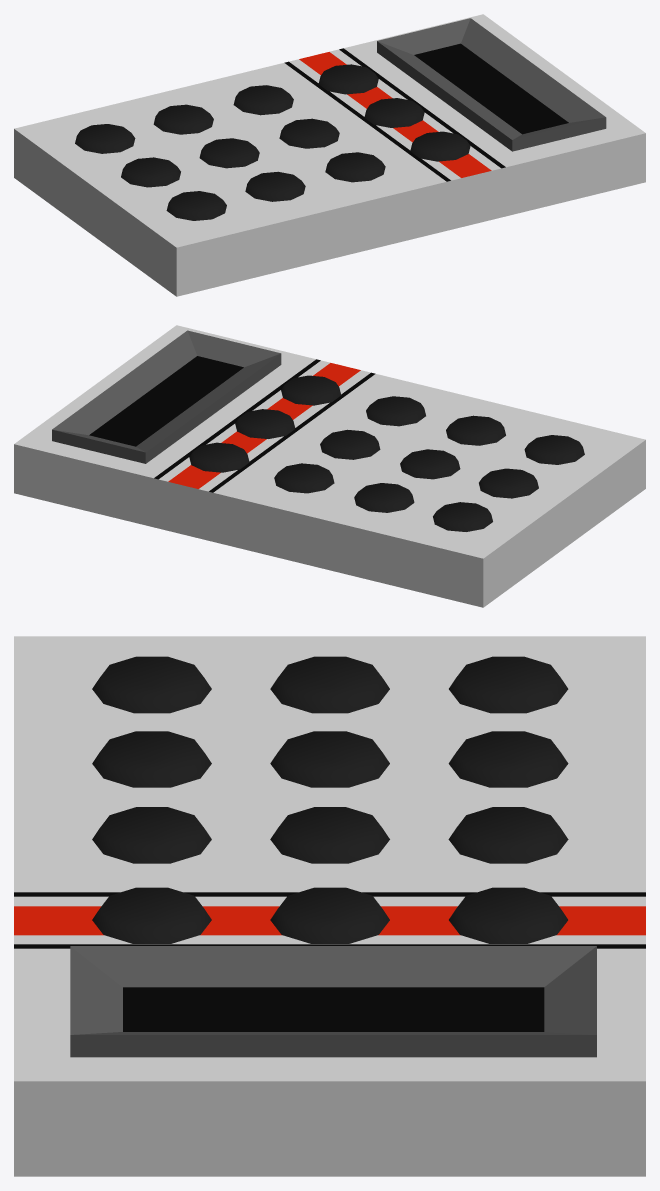
The model's file is Digicode_3D_03.FBX.
3 renders of one model, top to bottom at view 1: azimuth 30°, elevation 25°; view 2: azimuth 150°, elevation 25°; view 3: azimuth 270°, elevation 25°, orthographic. The views are drawn at different scales.
Parts seen in each view (by area): view 1: Box001; view 2: Box001; view 3: Box001.
Boxes of the visible parts, left/top/right/bottom form: Box001: left=14, top=14, right=645, bottom=296; Box001: left=14, top=325, right=645, bottom=607; Box001: left=14, top=636, right=645, bottom=1176.
Bounding box in the file's own units: 0.5 × 0.0617 × 0.3.
